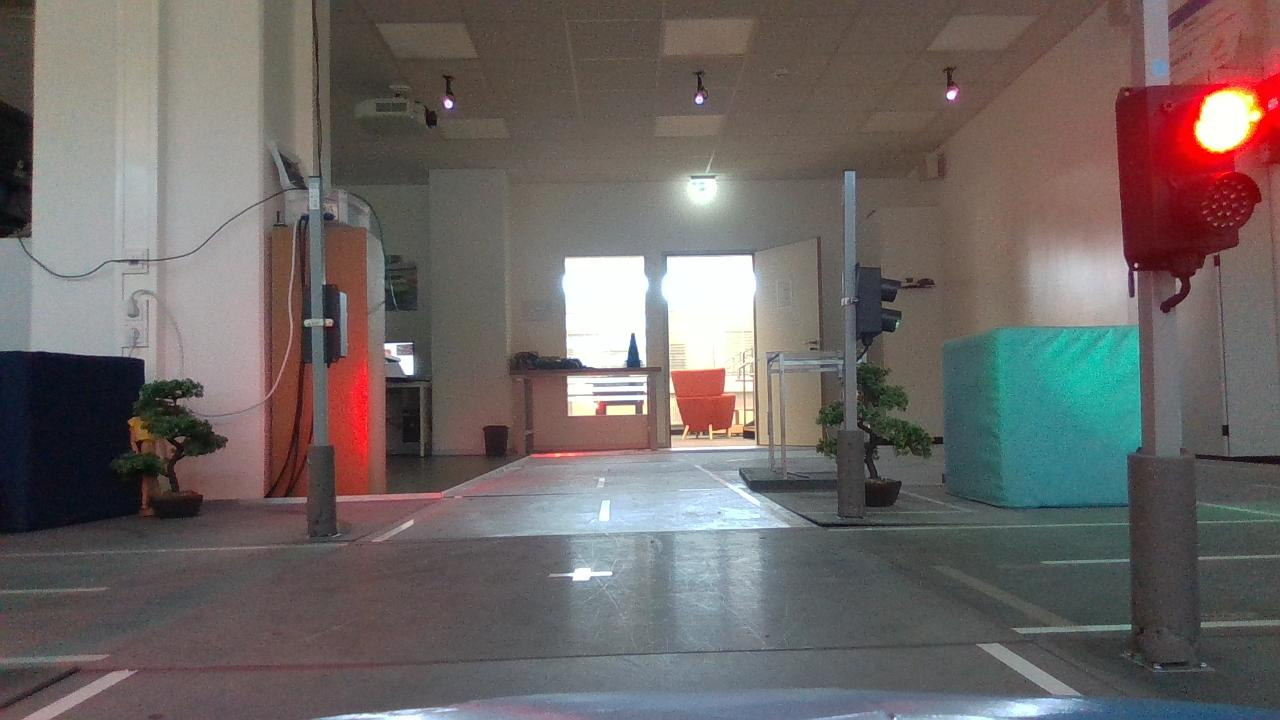traffic_light_red: (1095, 68, 1272, 287)
